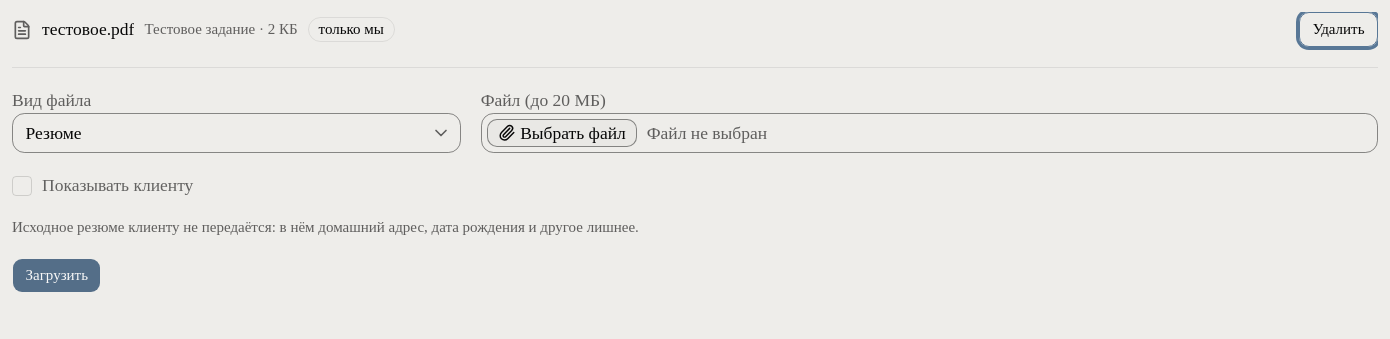
Test: файл кандидата: «Удалить» в строке › отказ сервера: ошибка в блоке, блок открыт (раньше закрывался)
The width and height of the screenshot is (1390, 339).
Step 1. Click the button "Удалить" → (1339, 30), box [1299,12,1378,47]
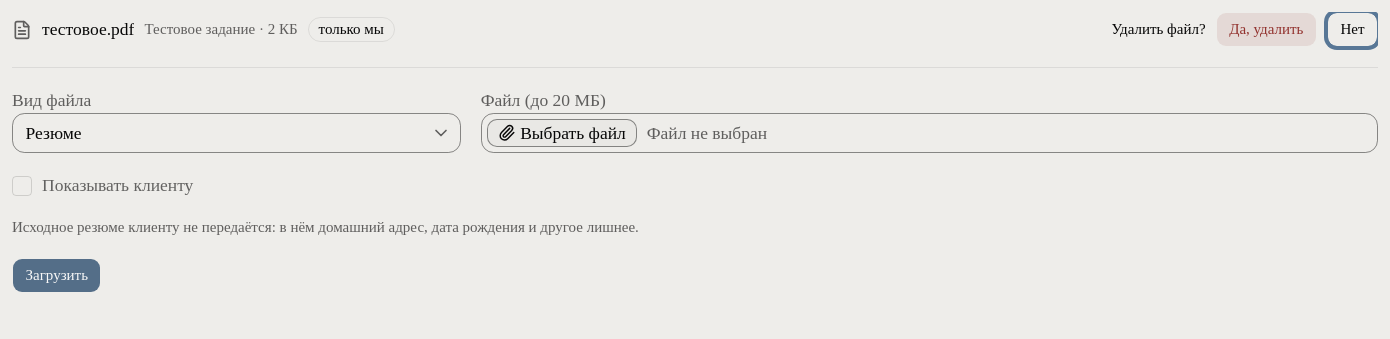
Step 2. Click the button "Да, удалить" → (1266, 30), box [1216,12,1317,47]
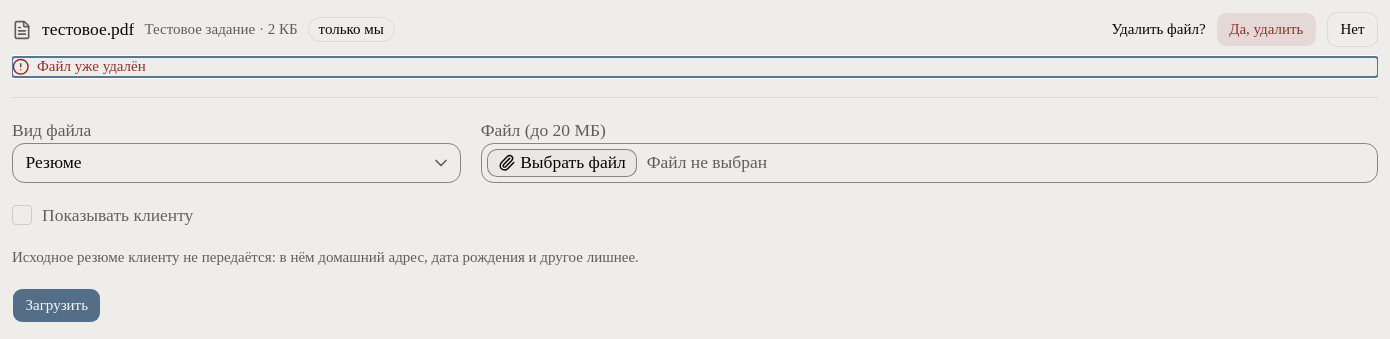
Expected: the element showing "Удалить файл? Да, удалить Нет" is shown, [1112,12,1378,47]
Expected: the message reads "Файл уже удалён", [37,58,146,74]
